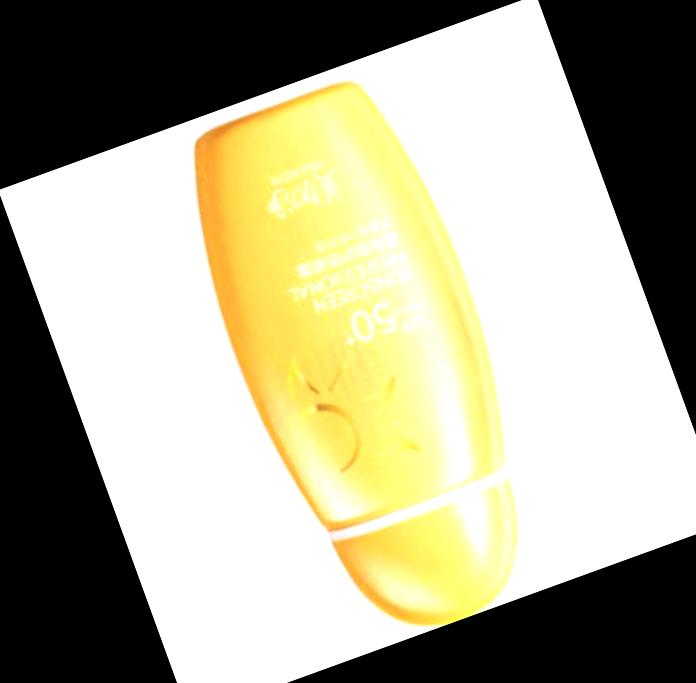cosmetic: (160, 60, 577, 659)
